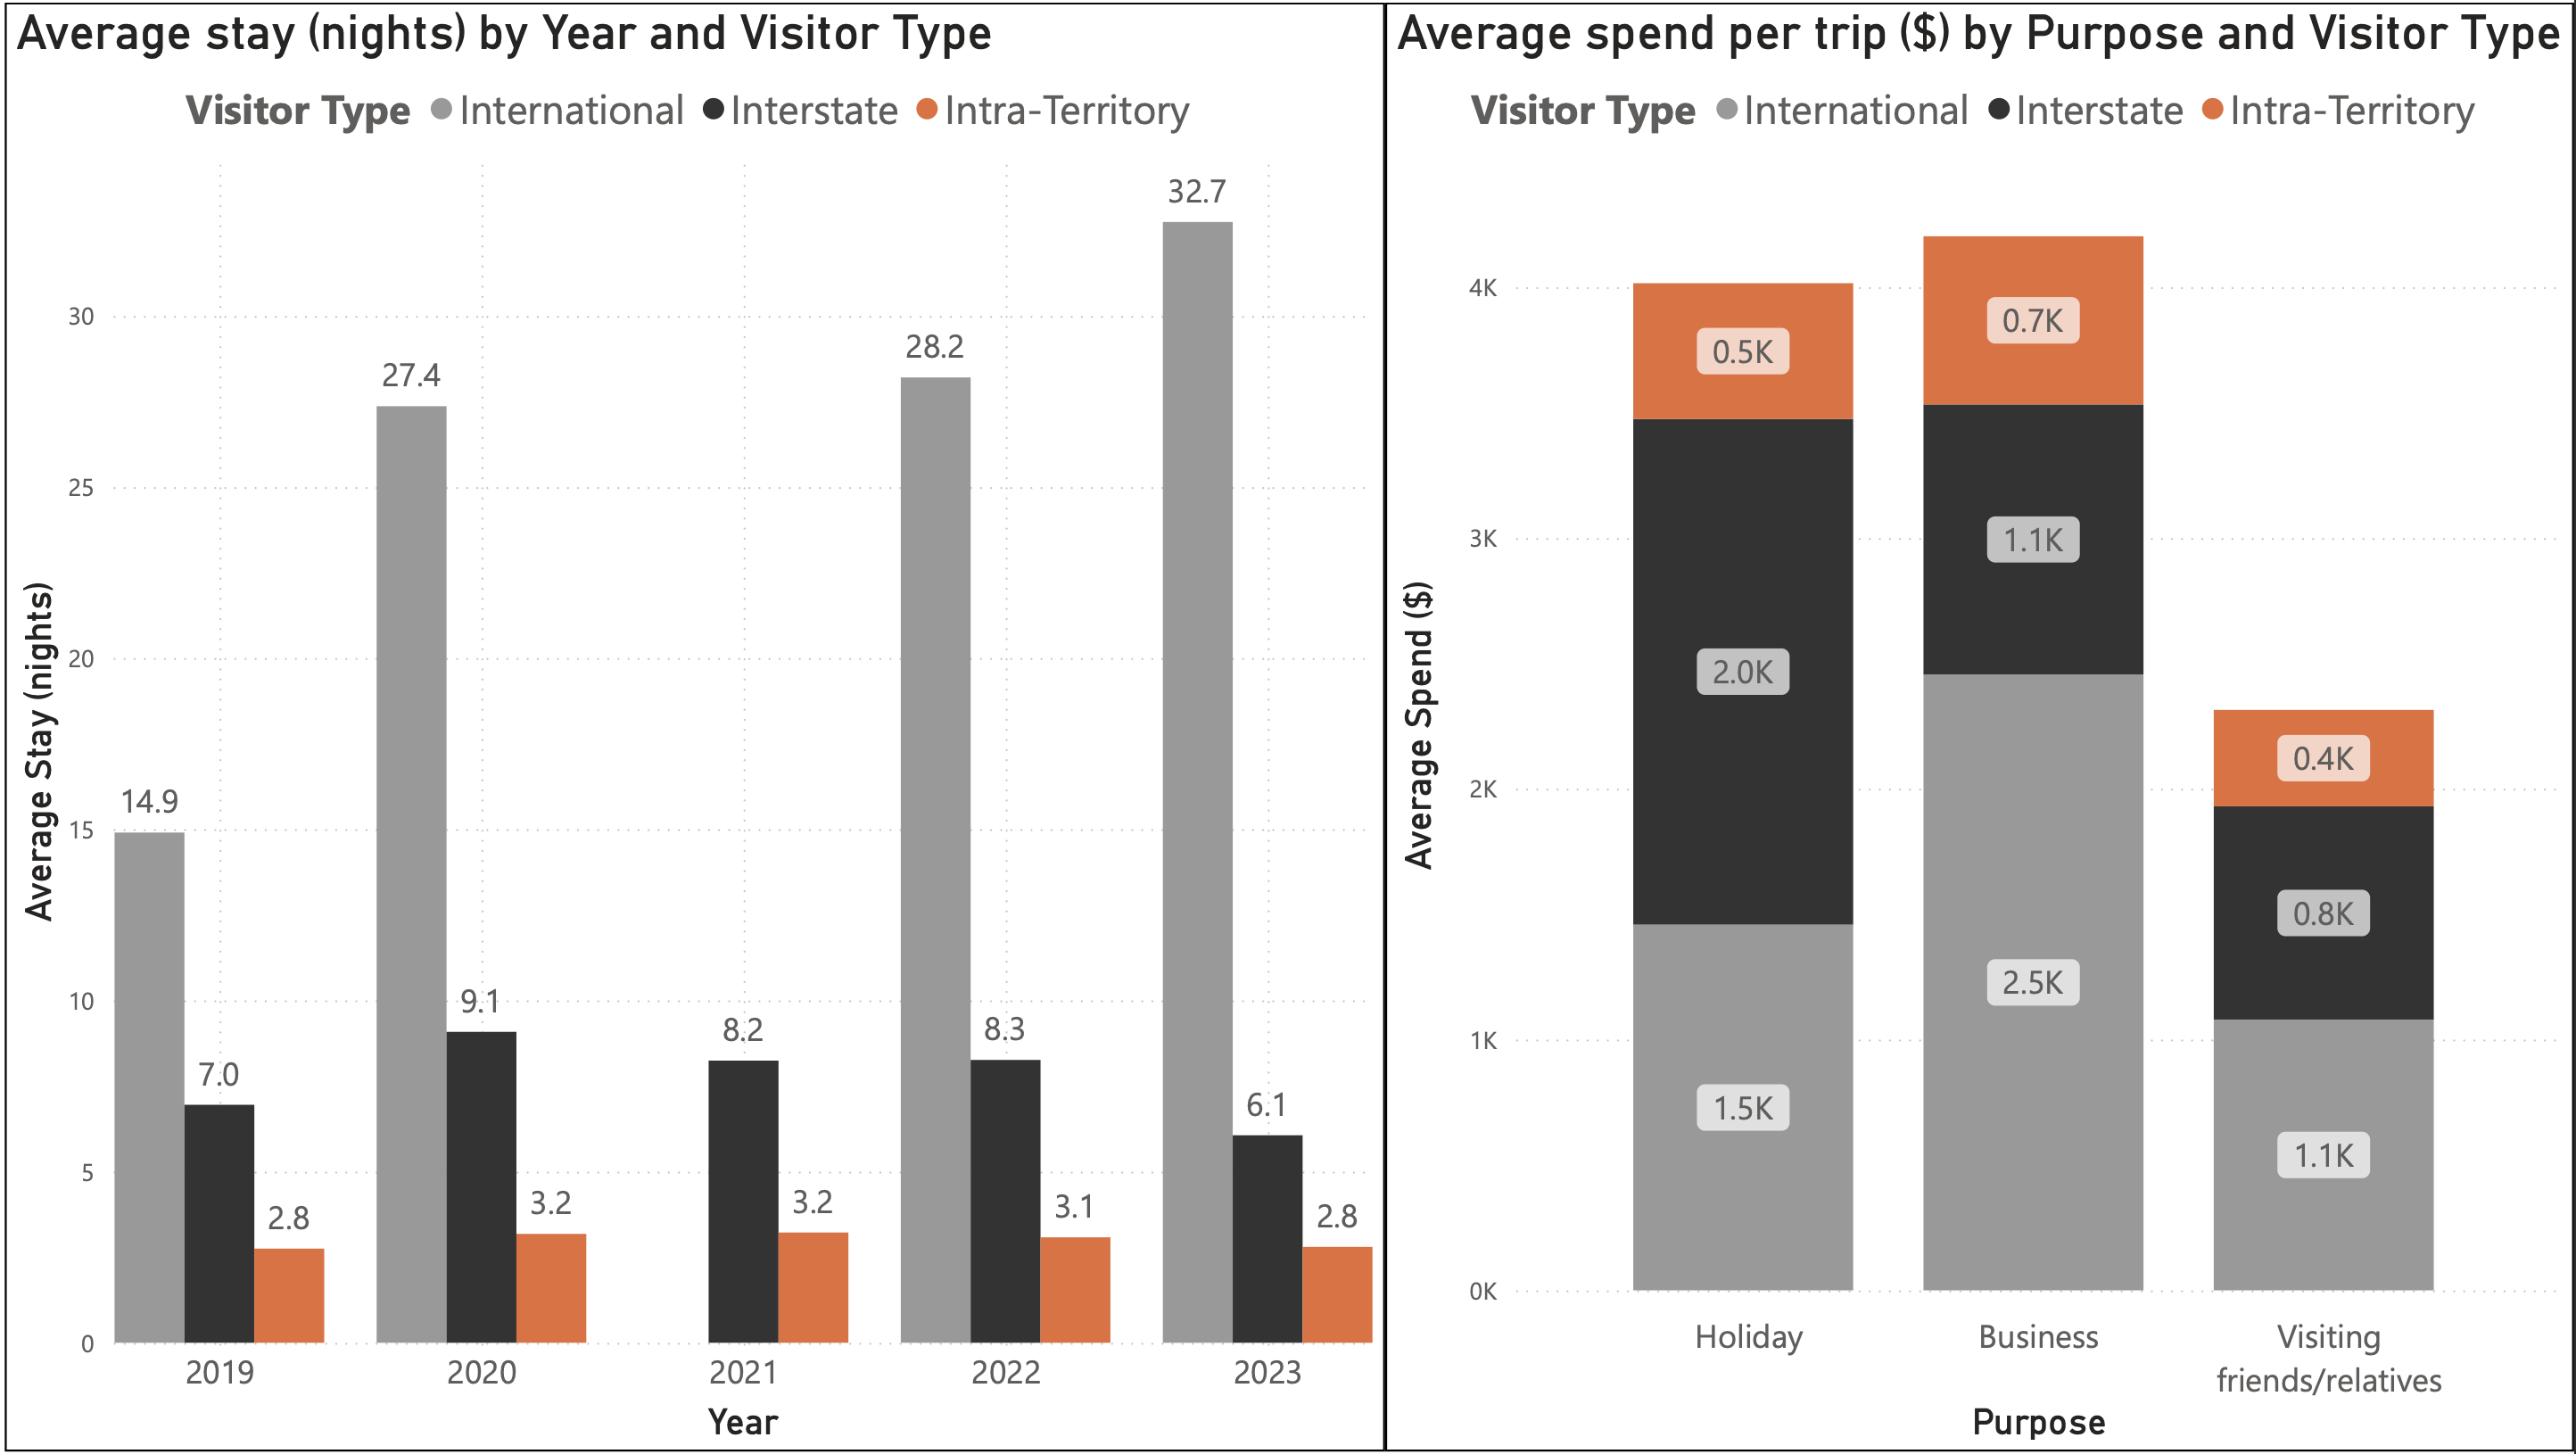

The page's visual inventory and layout, read from the dashboard file:
{"tool":"powerbi","page":{"name":"Stay and Spend","canvas":[1280,720],"ordinal":1},"visuals":[{"type":"lineClusteredColumnComboChart","title":"Average stay (nights) by Year and Visitor Type","fields":{"Category":["NT Visitor YE December.Year.Variation.Date Hierarchy.Year"],"Y":["Avg(NT Visitor YE December.Average stay (nights))"],"Series":["NT Visitor YE December.Visitor Type"]},"box":[5.5,0,684.7,719],"z":2},{"type":"lineStackedColumnComboChart","title":"Average spend per trip ($) by Purpose and Visitor Type","fields":{"Category":["NT Visitor YE December.Purpose"],"Y":["Avg(NT Visitor YE December.Average spend per trip ($))"],"Series":["NT Visitor YE December.Visitor Type"]},"box":[690.2,0,590.1,719],"z":3}]}

Visuals, with their boxes in screenshot pixels (x1, y1, x2, y2), scaled from the page's 1280x720 canvas onto the 2576x1454 screenshot:
"Average stay (nights) by Year and Visitor Type" lineClusteredColumnComboChart: <bbox>11, 0, 1389, 1452</bbox>
"Average spend per trip ($) by Purpose and Visitor Type" lineStackedColumnComboChart: <bbox>1389, 0, 2575, 1452</bbox>
